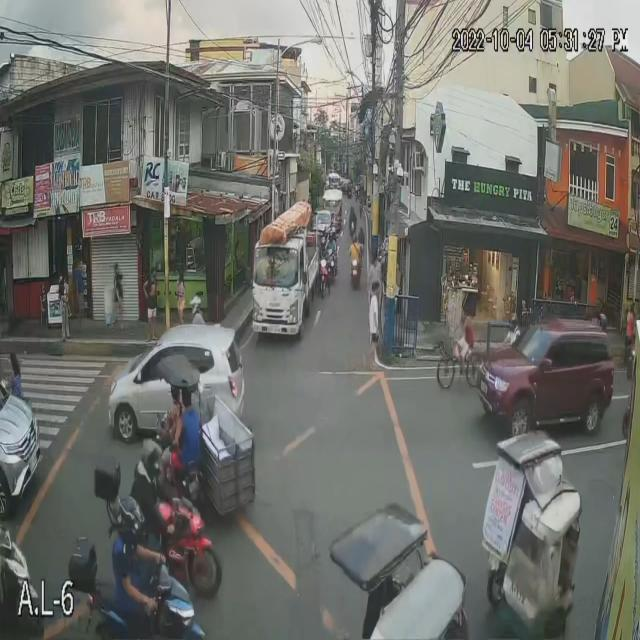full: (119, 493, 143, 544), (140, 436, 162, 478)
